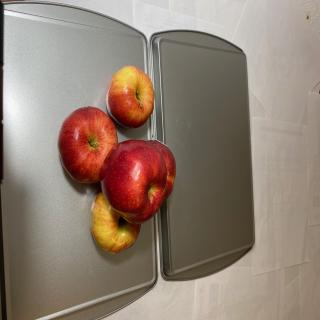Apple: (99, 139, 167, 224), (57, 106, 118, 184), (90, 192, 141, 254), (106, 65, 154, 128), (147, 139, 176, 204)
Chilli: (56, 64, 176, 254)
